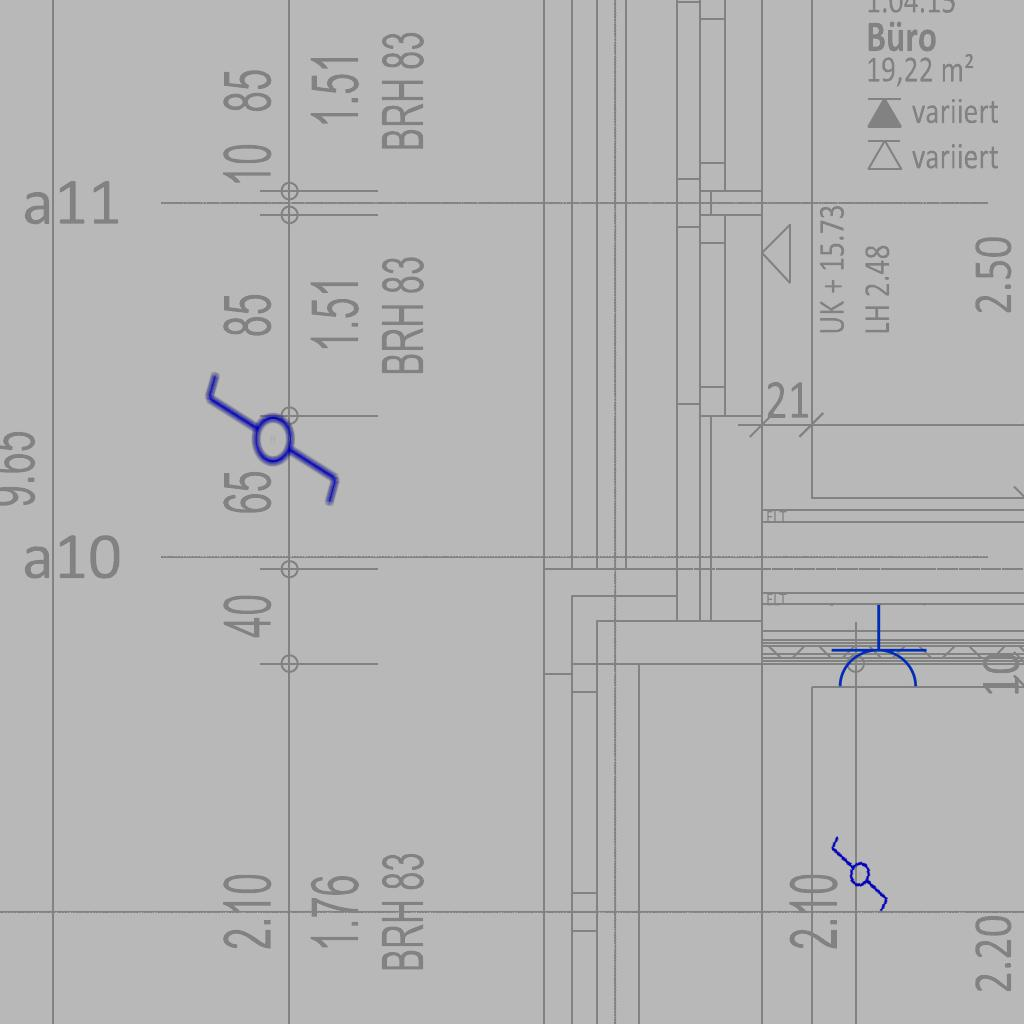Schukosteckdose_einfach: (828, 604, 928, 691)
Wechselschalter: (199, 369, 343, 526), (815, 832, 901, 924)
